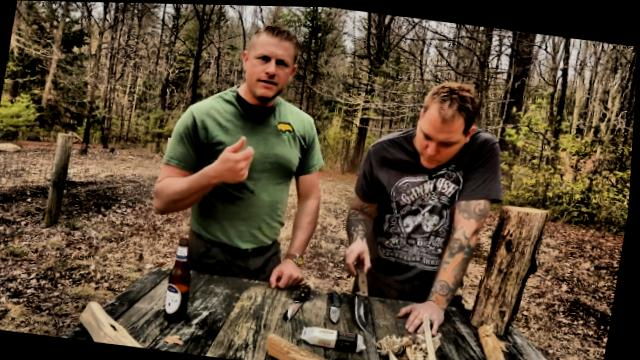knife: (341, 245, 392, 332)
